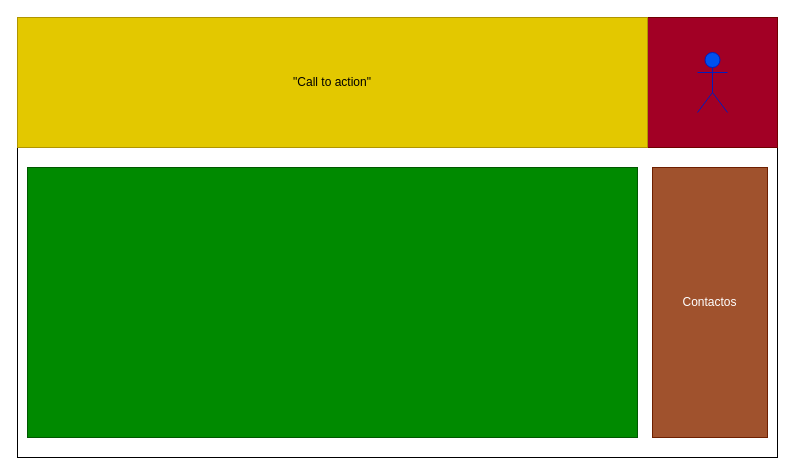
Some shapes in this 795 by 475 pixel diagram are drawn without their labels. The centre of each missing label's shape, as x and y in pixels:
Información: the point at 332,302
Tú: the point at 712,82
